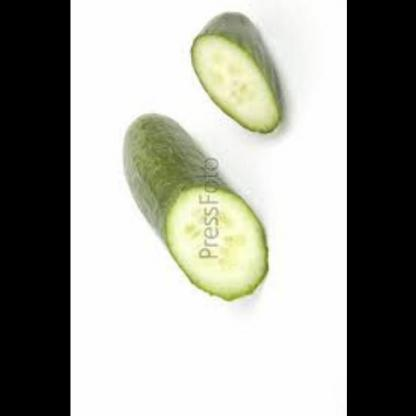cucumber: (119, 111, 266, 304), (188, 6, 284, 139)
